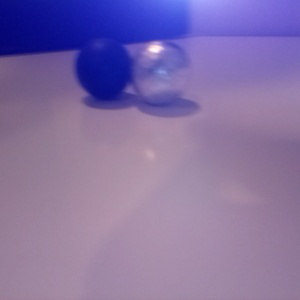alive_ball: (130, 40, 190, 106)
dead_ball: (74, 38, 132, 99)
